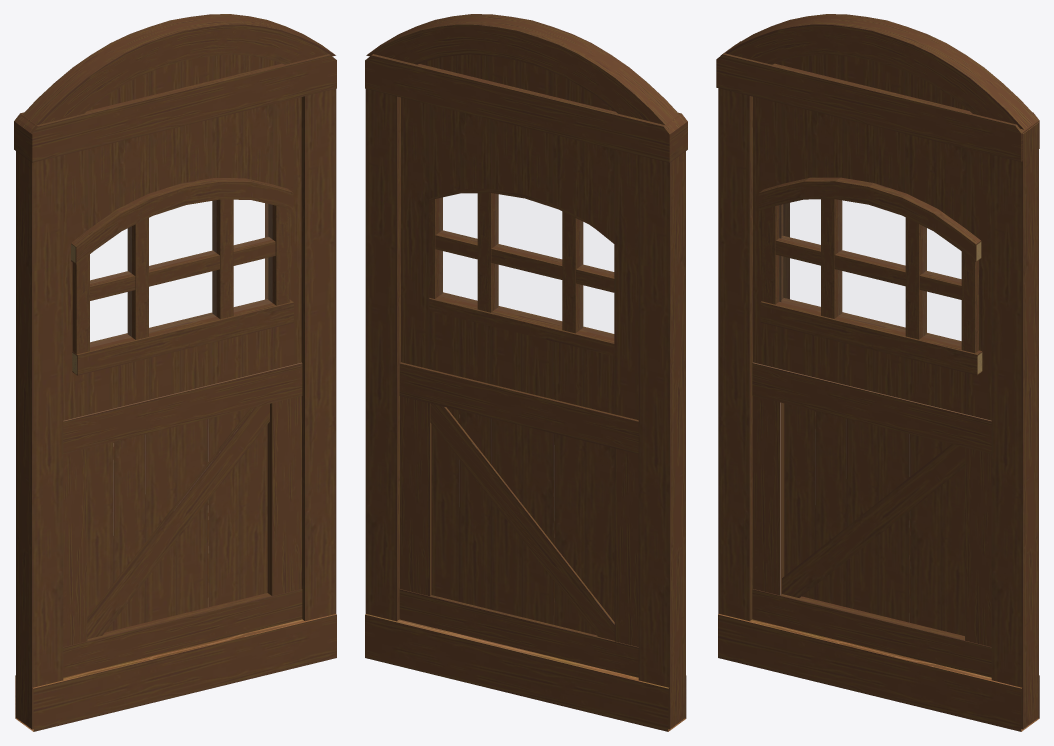
File: Door_1_Round.glb
3 views of the same model, side by side, from view 1: azimuth 30°, elevation 25°; view 2: azimuth 150°, elevation 25°; view 3: azimuth 330°, elevation 25° (orthographic).
Parts seen in each view (by area): view 1: Door_1_Round; view 2: Door_1_Round; view 3: Door_1_Round.
Boxes of the visible parts, x1=… form: Door_1_Round: x1=14, y1=14, x2=336, y2=731; Door_1_Round: x1=365, y1=14, x2=687, y2=731; Door_1_Round: x1=716, y1=14, x2=1039, y2=731.
Size of the model in its own units: 1.12 by 2.32 by 0.1206.
Materials: 2 (1 with a texture image).
